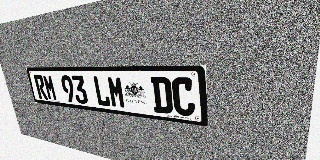3: (71, 75, 88, 104)
9: (60, 75, 76, 103)
C: (171, 77, 195, 117)
D: (150, 77, 173, 114)
L: (92, 76, 111, 107)
M: (107, 76, 126, 109), (42, 75, 58, 101)
R: (33, 75, 48, 100)
